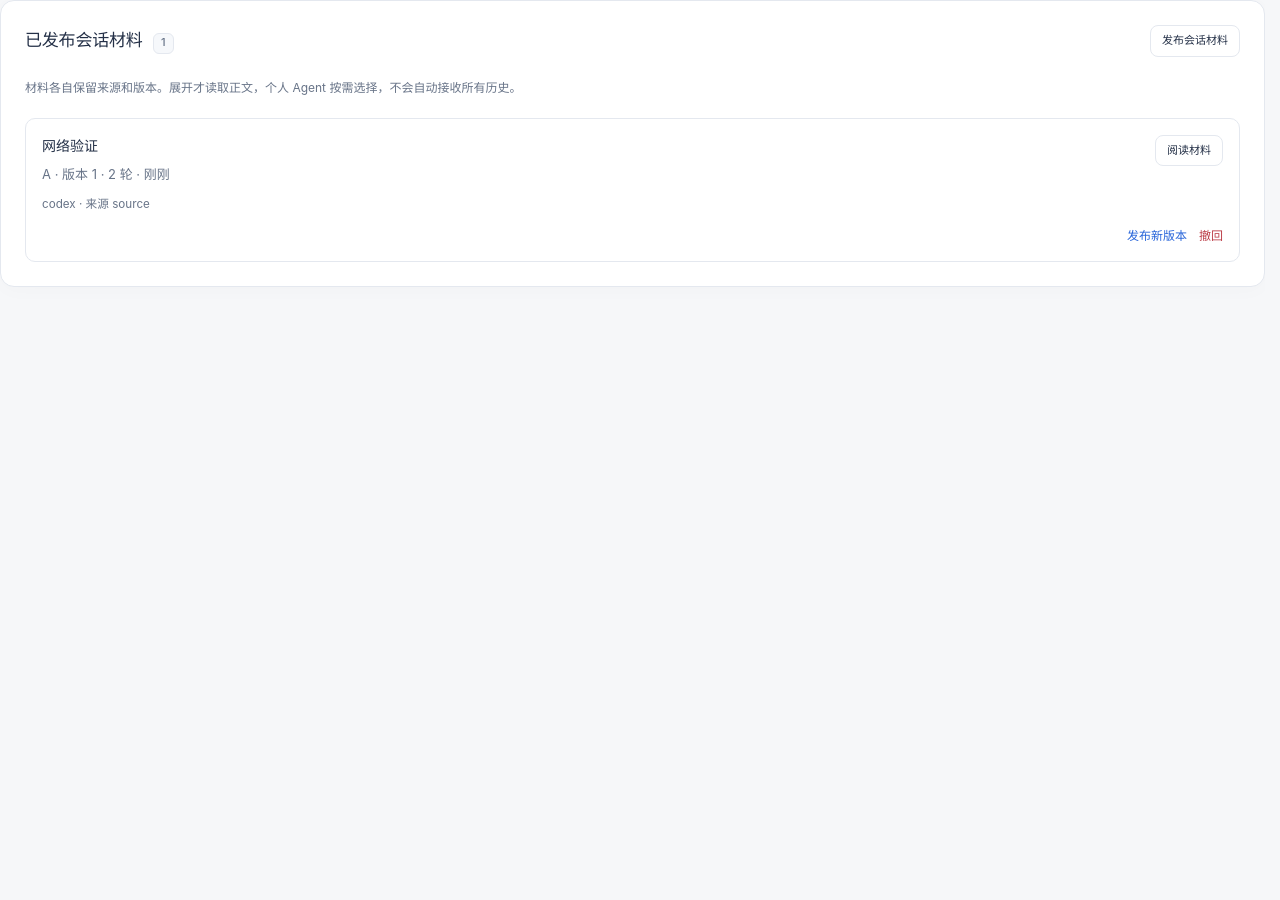
keeps material provenance on the reader toolbar until the source details are opened
Click the button "阅读材料". click: (1189, 150)
box: [1155,135,1223,166]
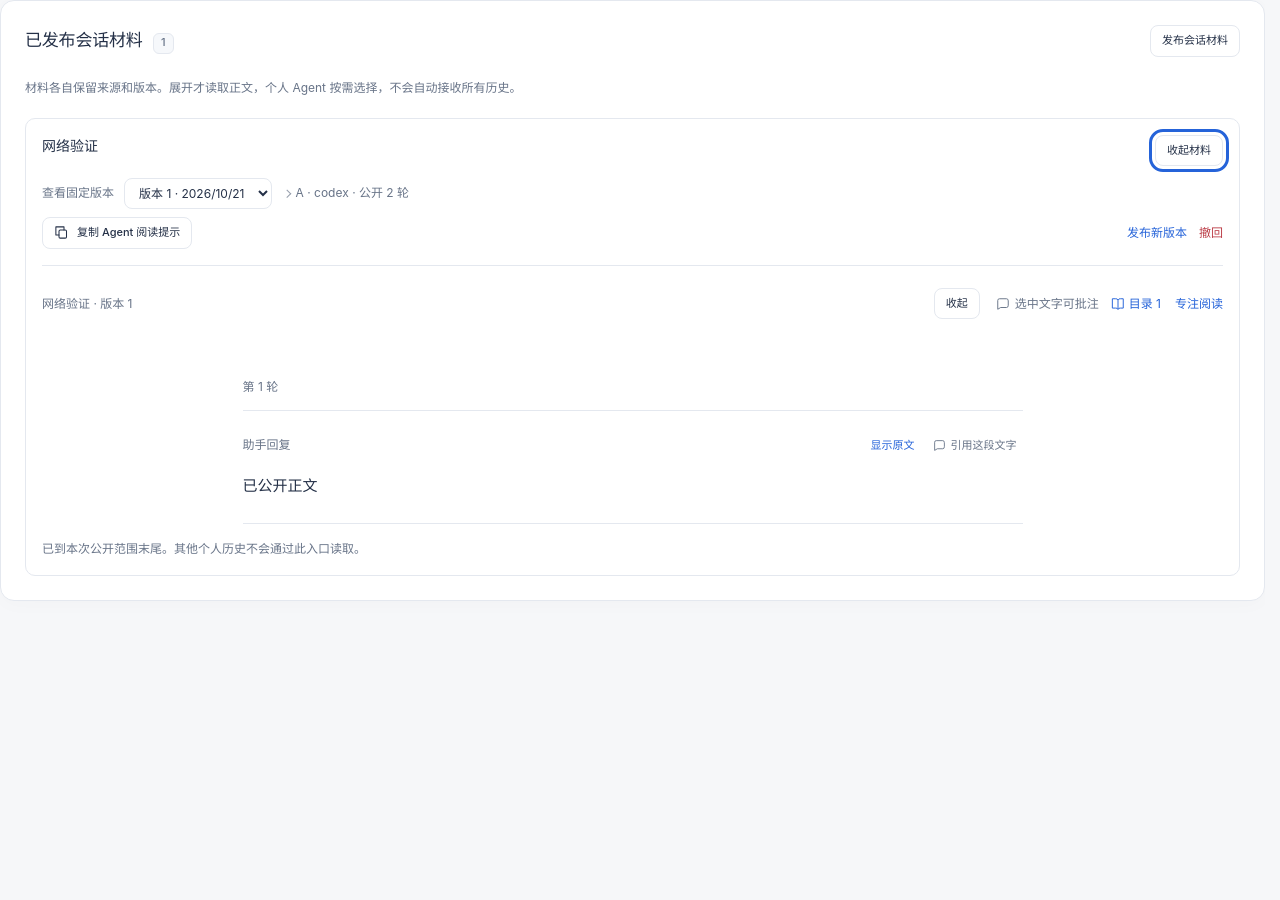
Check: the text "A · codex · 公开 2 轮" is shown
Click the heading "A · codex · 公开 2 轮". click: (352, 193)
box: [296,186,409,200]
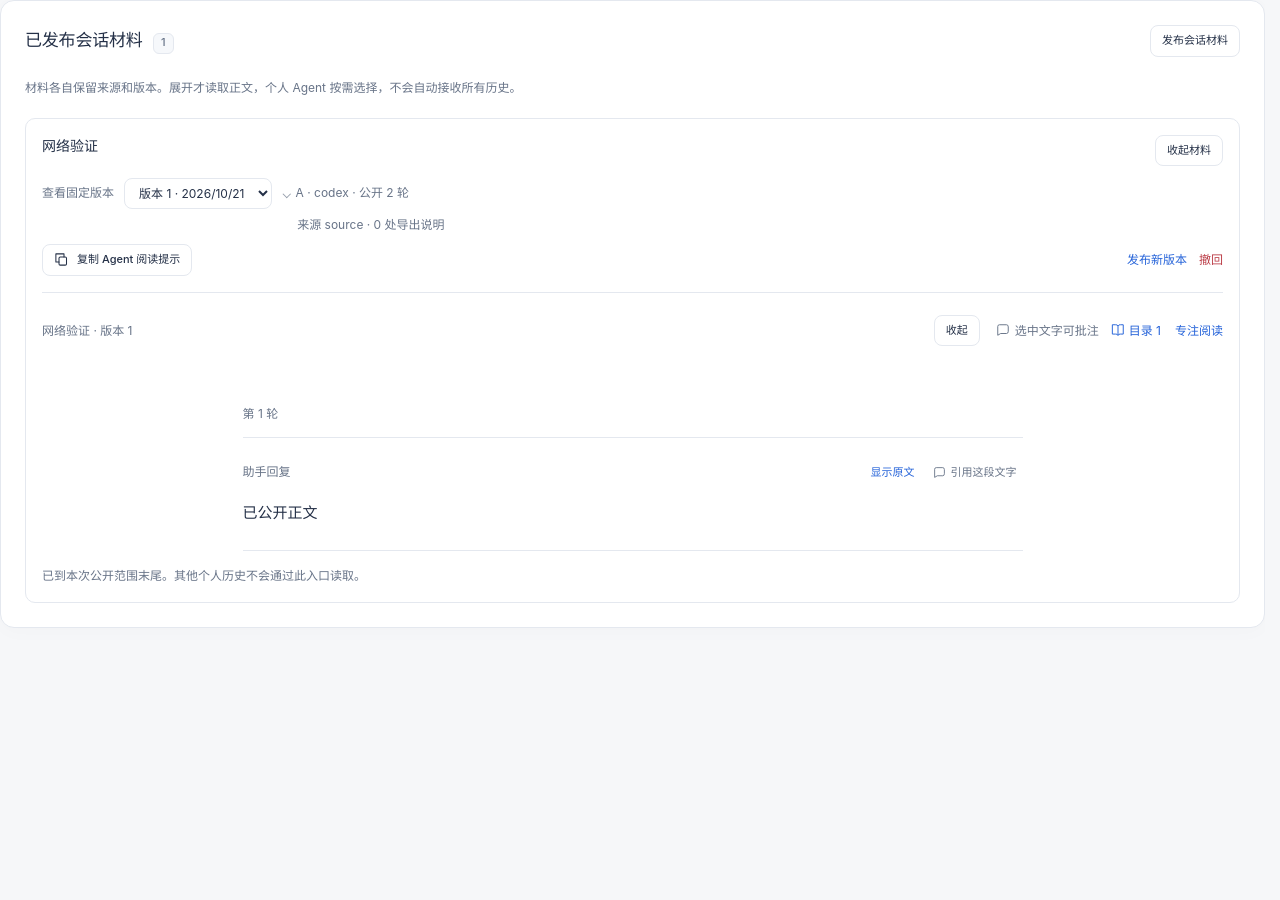
Check: the text "来源 source · 0 处导出说明" is shown, box [297,217,445,232]
